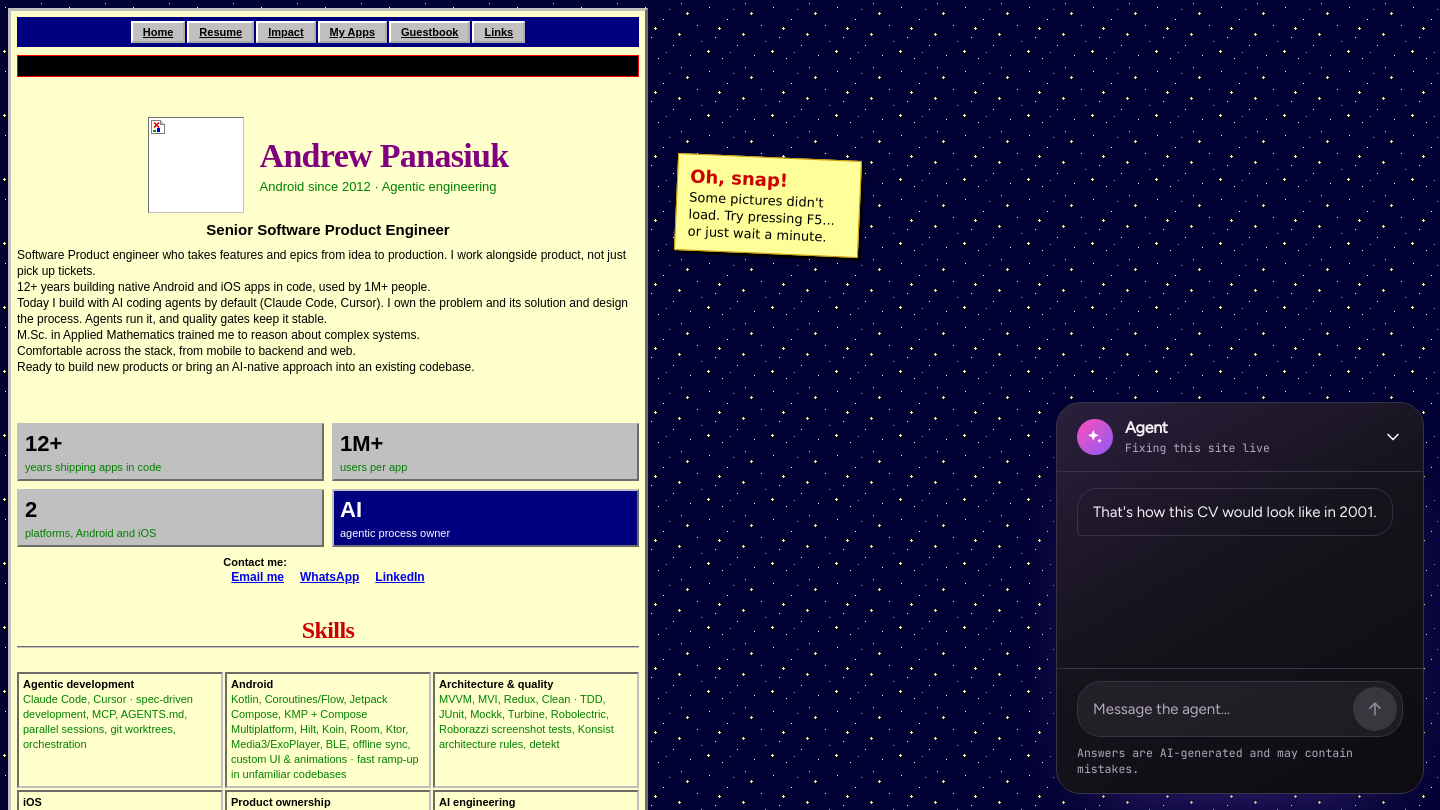
retro show screen › minimises the chat to its header and restores it from the header
Click the button with test id "retro-minimise" at (1393, 437), box [1371,415,1415,459]
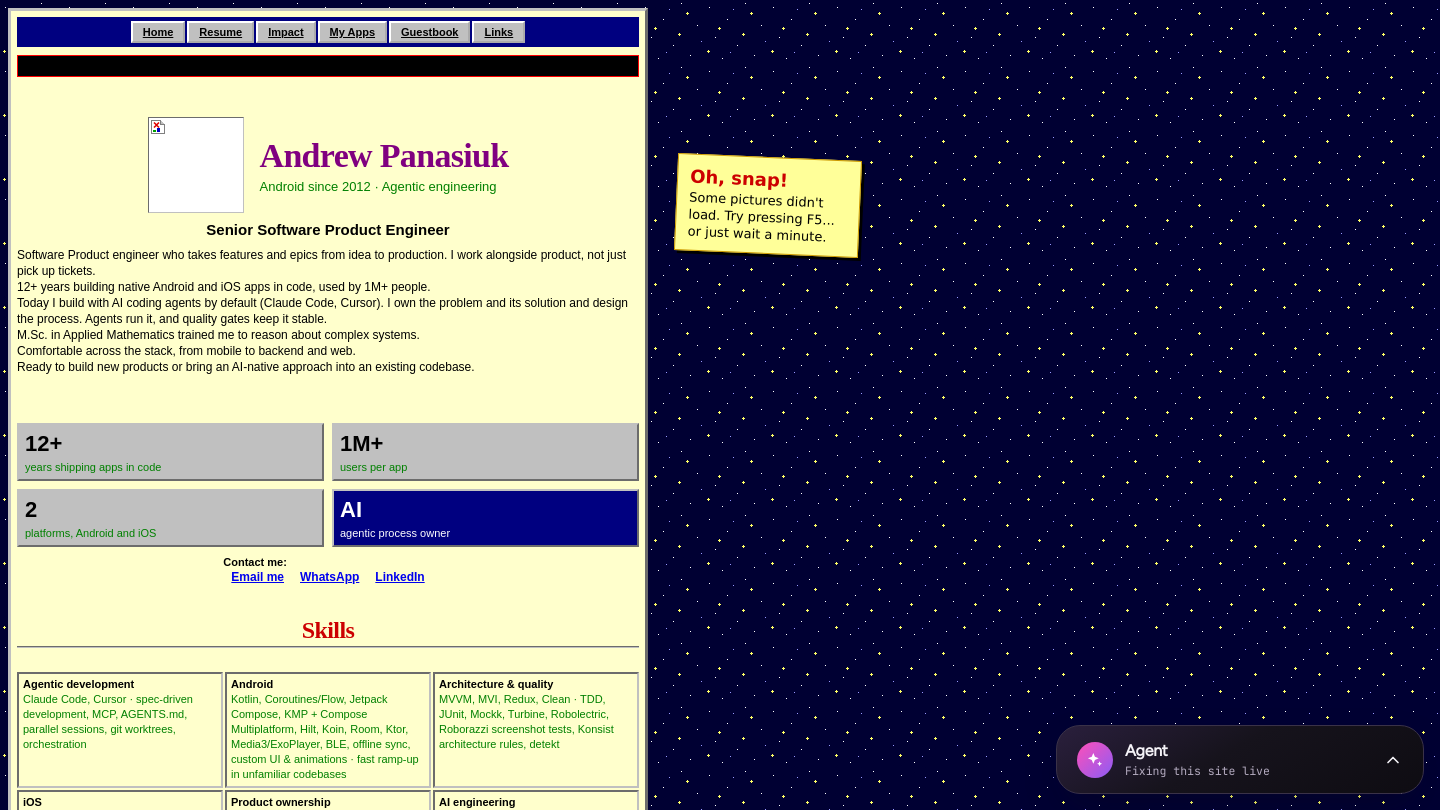
Result: the button with test id "retro-minimise" is collapsed at [1371,738,1415,782]
Click the heading "Agent" at (1146, 750), box [1125,741,1168,760]
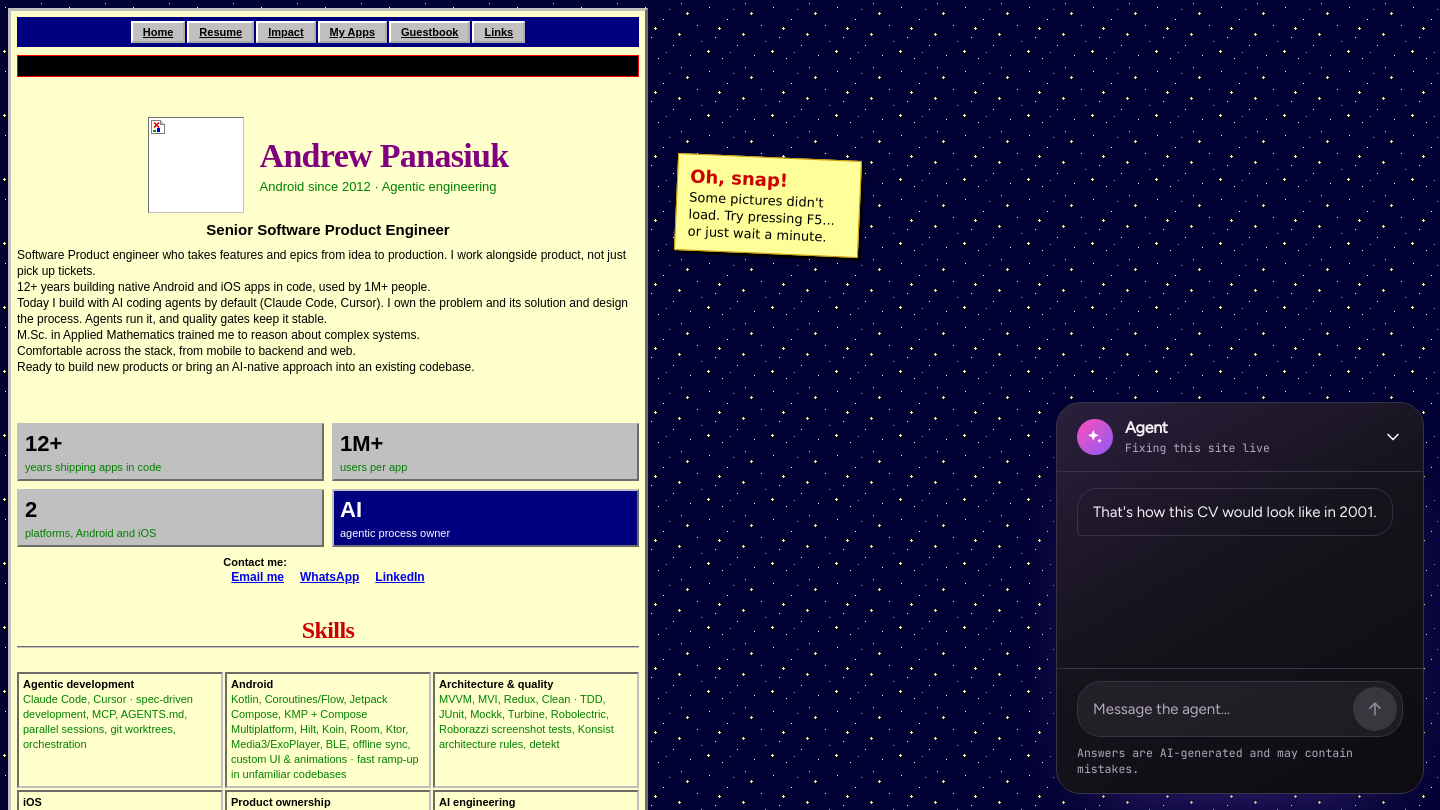
Result: the button with test id "retro-minimise" is expanded at [1371,415,1415,459]
